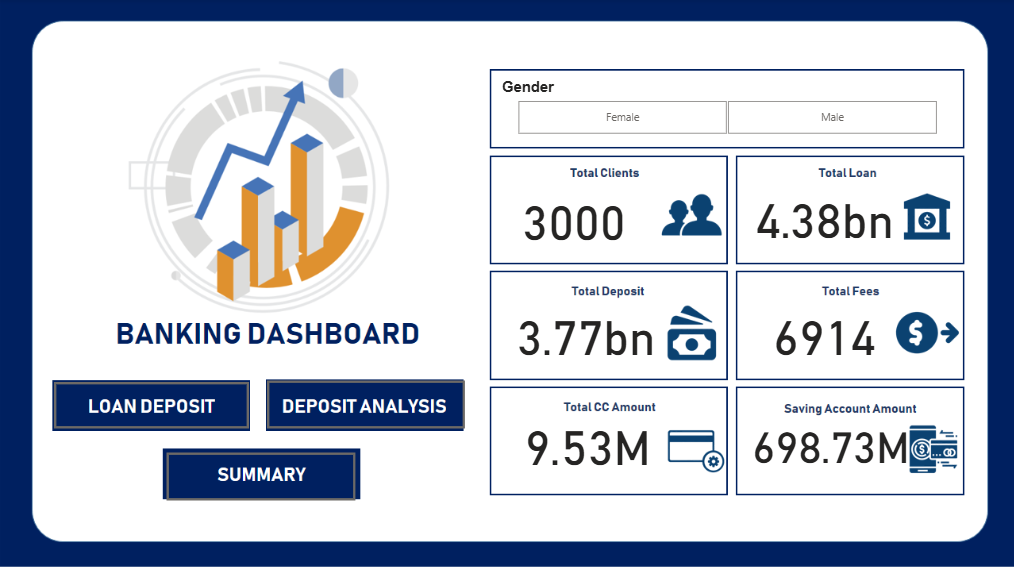

What the dashboard file says about the page in this screenshot:
{"tool":"powerbi","page":{"name":"Home 1","canvas":[1280,720],"ordinal":0},"visuals":[{"type":"card","fields":{"Values":["CountNonNull(Query1.Name)"]},"box":[610.4,236.2,224.9,77.5],"z":0},{"type":"card","fields":{"Values":["Query1.Total Loan"]},"box":[888.2,236.2,300.5,71.8],"z":1000},{"type":"card","fields":{"Values":["Query1.Total Deposit"]},"box":[587.7,374.2,300.5,90.7],"z":2000},{"type":"card","fields":{"Values":["Sum(Query1.Credit Card Balance)"]},"box":[627.4,483.8,224.9,149.3],"z":3000},{"type":"card","fields":{"Values":["Query1.Total Fees"]},"box":[926,374.2,224.9,90.7],"z":4000},{"type":"card","fields":{"Values":["Sum(Query1.Saving Accounts)"]},"box":[941.1,517.8,209.8,83.2],"z":5000},{"type":"slicer","title":"Gender","fields":{"Values":["Query1.GenderId"]},"box":[627.4,102,576.4,75.6],"z":6000},{"type":"actionButton","box":[68,483.8,245.7,58.6],"z":7000},{"type":"actionButton","box":[336.4,481.9,249.5,60.5],"z":8000},{"type":"actionButton","box":[209.8,572.6,238.1,60.5],"z":9000}]}

Visuals, with their boxes in screenshot pixels (x1, y1, x2, y2), scaled from the page's 1280x720 canvas onto the 1014x569 screenshot:
card - CountNonNull(Query1.Name): bbox(484, 187, 662, 248)
card - Query1.Total Loan: bbox(704, 187, 942, 243)
card - Query1.Total Deposit: bbox(466, 296, 704, 367)
card - Sum(Query1.Credit Card Balance): bbox(497, 382, 675, 500)
card - Query1.Total Fees: bbox(734, 296, 912, 367)
card - Sum(Query1.Saving Accounts): bbox(746, 409, 912, 475)
"Gender" slicer: bbox(497, 81, 954, 140)
actionButton: bbox(54, 382, 249, 429)
actionButton: bbox(266, 381, 464, 429)
actionButton: bbox(166, 453, 355, 500)
